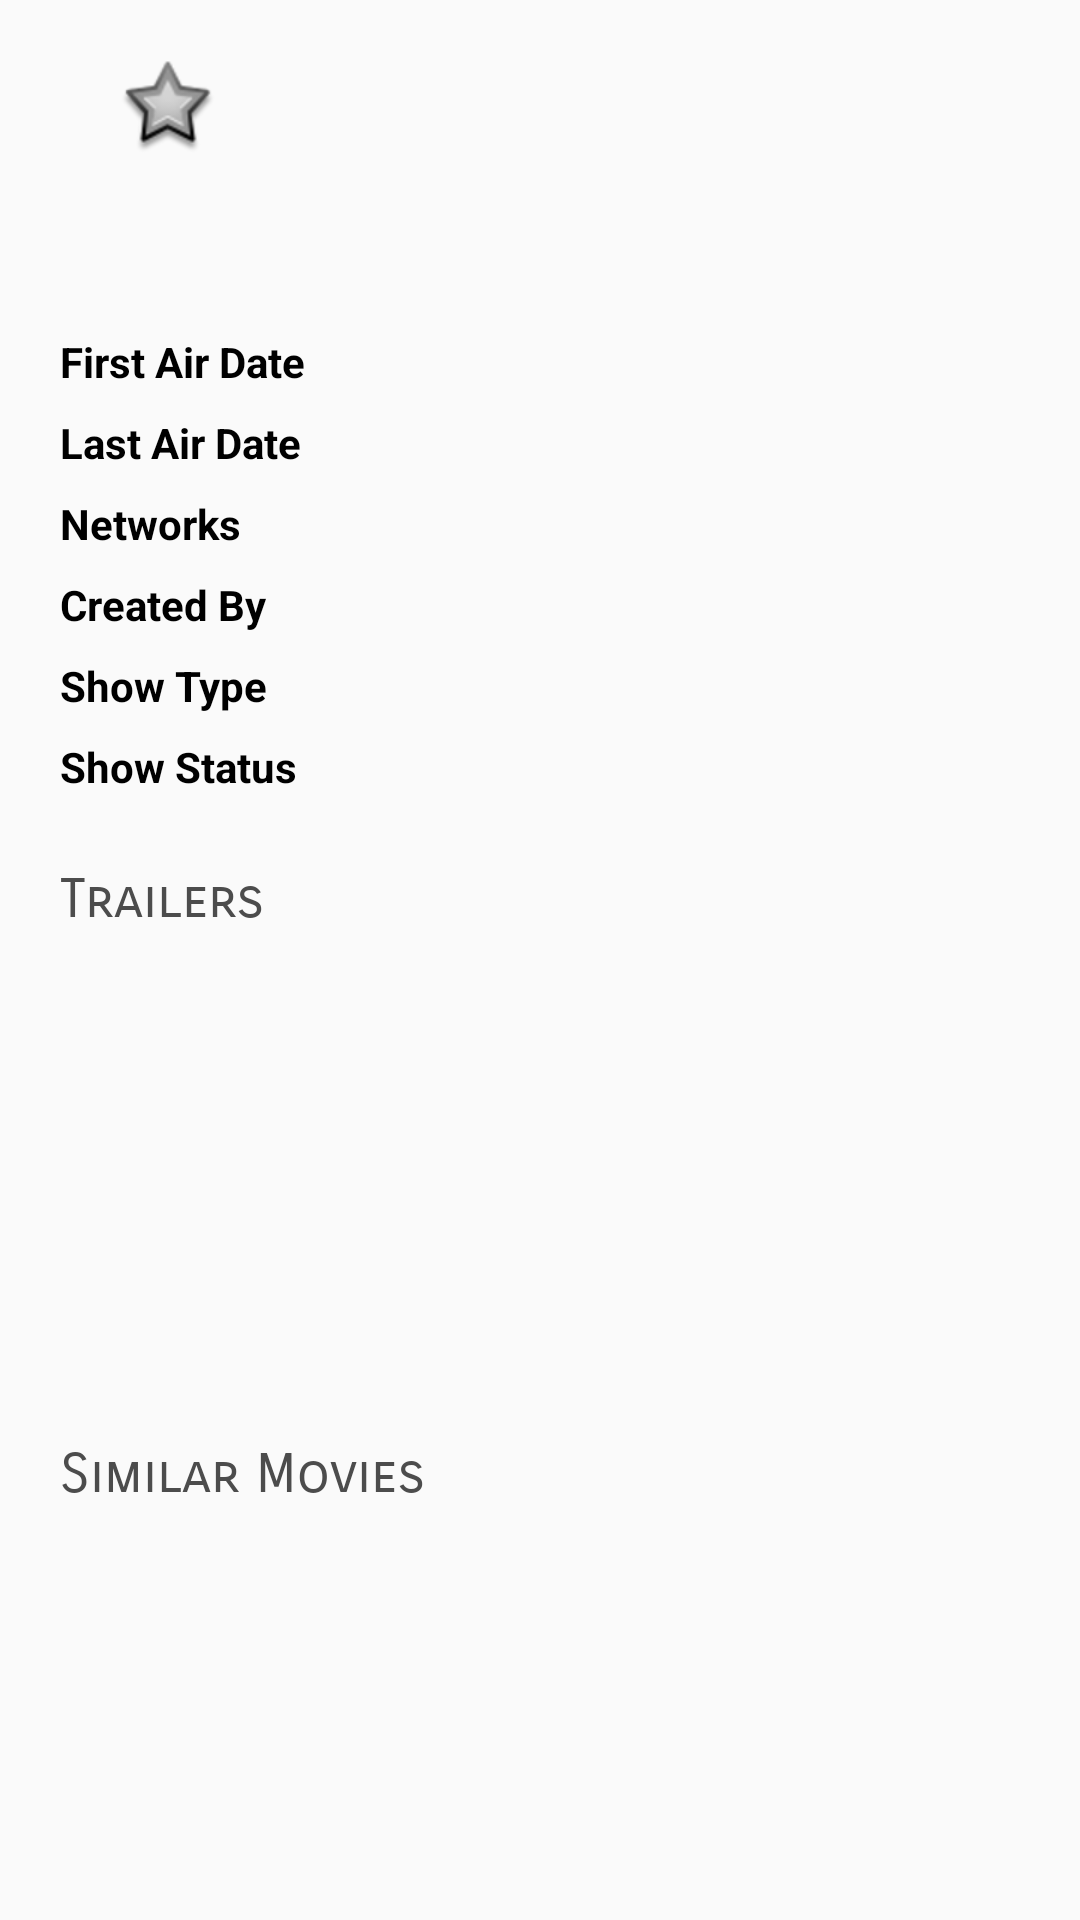

Icons on this 1080 × 1920 Android screen, each with its box as region(x1, y1, x2, y2):
star off: region(125, 61, 211, 148)
